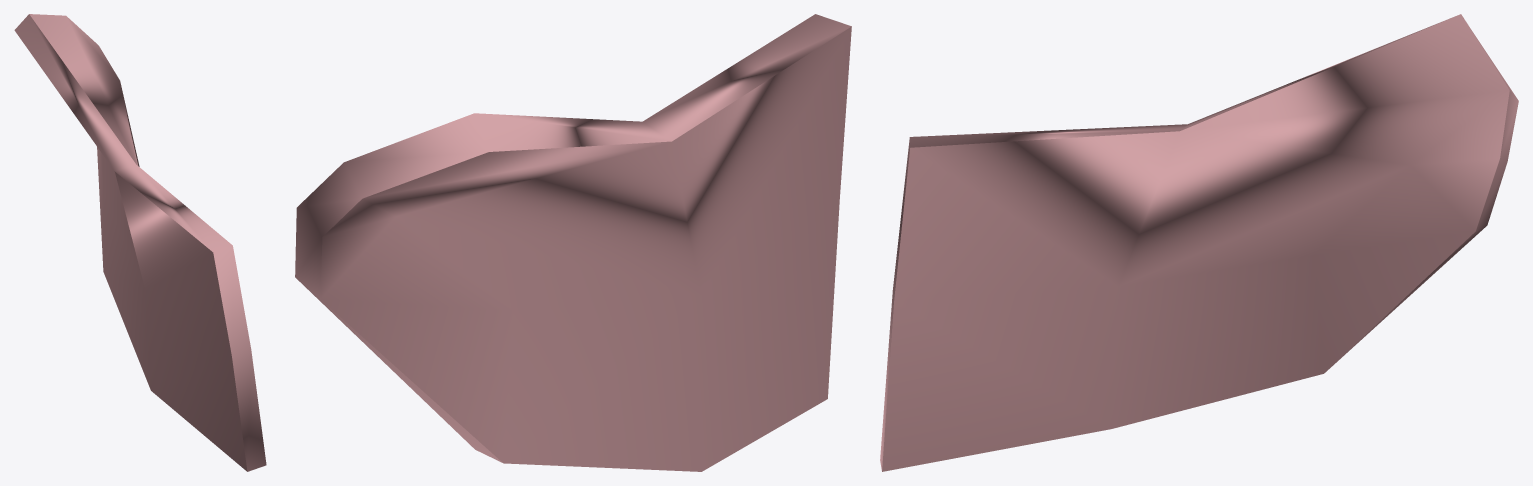
3 renders of one model, left to right at view 1: azimuth 30°, elevation 25°; view 2: azimuth 150°, elevation 25°; view 3: azimuth 270°, elevation 25°, orthographic. The views are drawn at different scales.
Parts seen in each view (by area): view 1: ZA_9acd62f47d5ebd0f; view 2: ZA_9acd62f47d5ebd0f; view 3: ZA_9acd62f47d5ebd0f.
Boxes of the visible parts, x1=… form: ZA_9acd62f47d5ebd0f: x1=14, y1=14, x2=266, y2=471; ZA_9acd62f47d5ebd0f: x1=295, y1=14, x2=851, y2=471; ZA_9acd62f47d5ebd0f: x1=880, y1=14, x2=1518, y2=471.
Bounding box in the file's own units: 0.0157 × 0.0447 × 0.0591.
